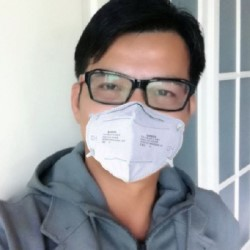mask: (78, 90, 190, 188)
